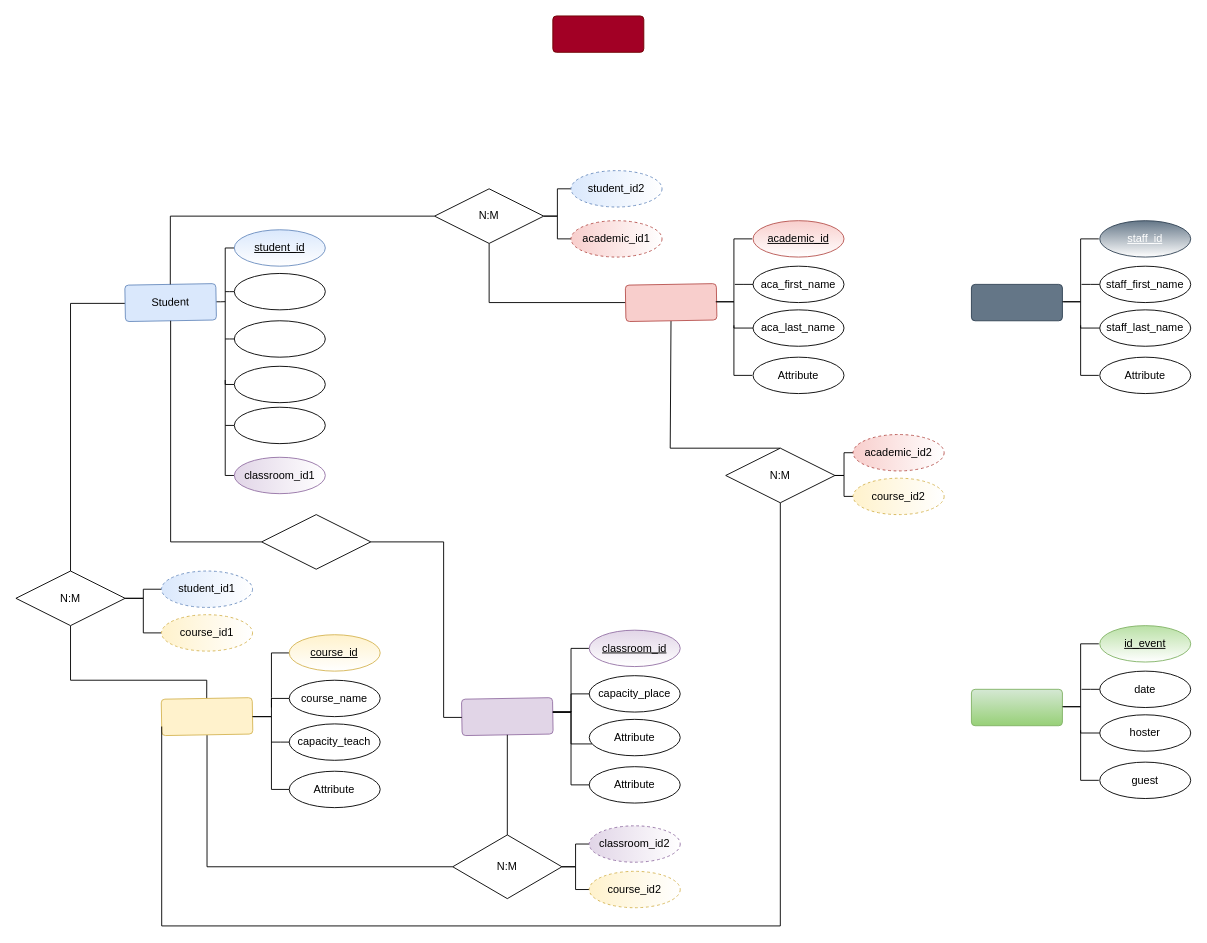
Some shapes in this 1207 by 943 pixel diagram are drawn without their labels. The shapes that lost their labels are listed below. From the top down, each one's centre as x and y in pixels, then its label:
(x=598, y=33): Attendants
(x=279, y=291): stu_first_name
(x=670, y=302): Academic
(x=1016, y=302): Staff
(x=279, y=338): stu_last_name
(x=279, y=384): age
(x=279, y=425): genere
(x=316, y=541): 1:N
(x=206, y=716): Courses
(x=507, y=716): classroom
(x=1016, y=707): events
